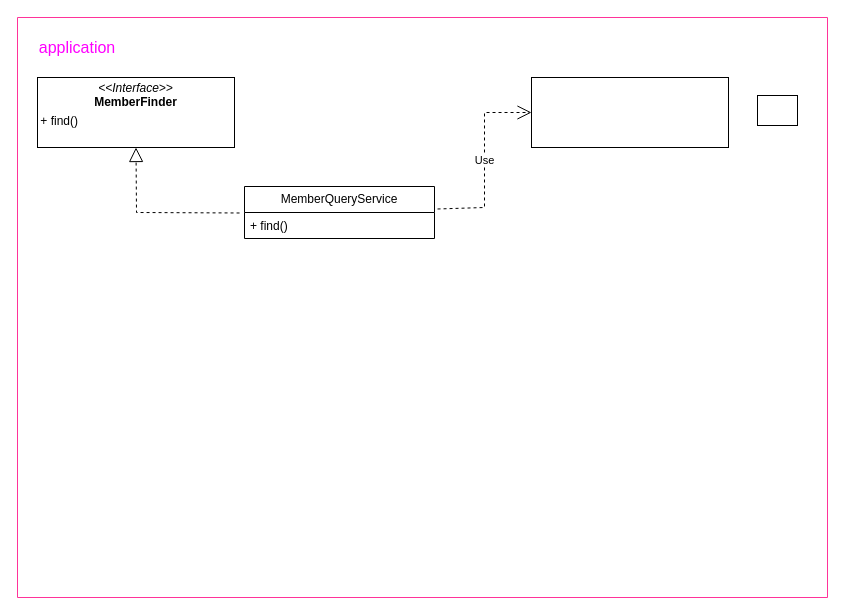
This 845x615 diagram has some shape labels left out. Each missing label, with the centre of its shape:
<<Interface>> MemberRepository findById(): point 629,112
H2: point 777,110
